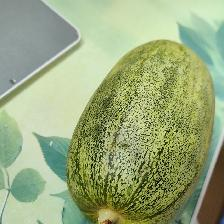gua: (105, 54, 183, 202)
